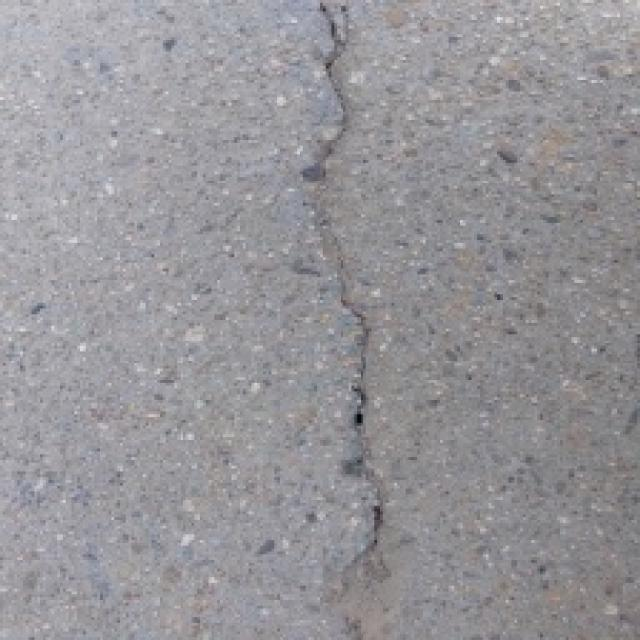crack: (268, 0, 410, 640)
